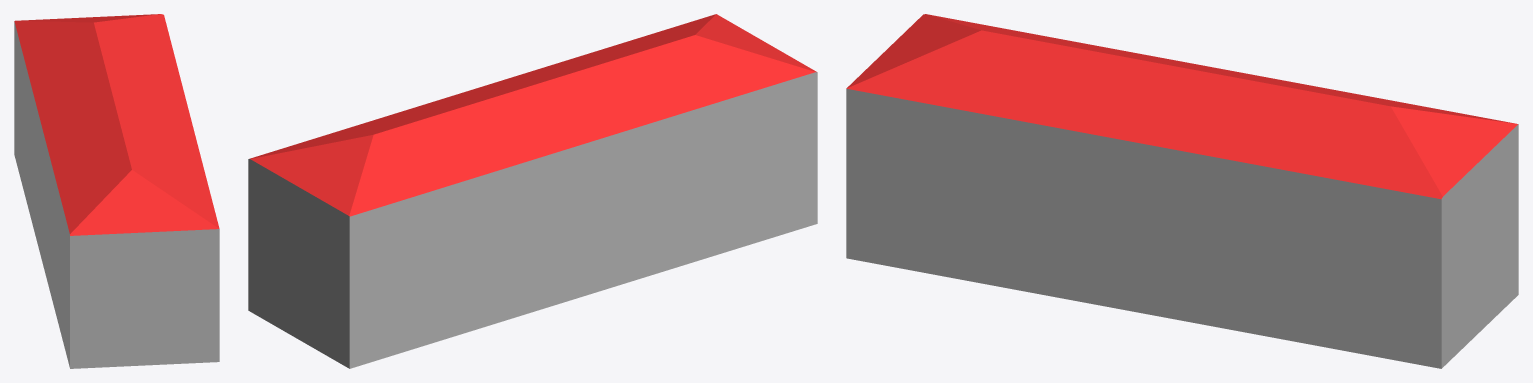
The model's file is DEBY_LOD2_4906981.dae.
The picture shows the model from 3 angles, left to right: view 1: azimuth 30°, elevation 25°; view 2: azimuth 150°, elevation 25°; view 3: azimuth 270°, elevation 25°; orthographic projection. The views are drawn at different scales.
Bounding box in the file's own units: 44.04 × 67.72 × 22.94.
